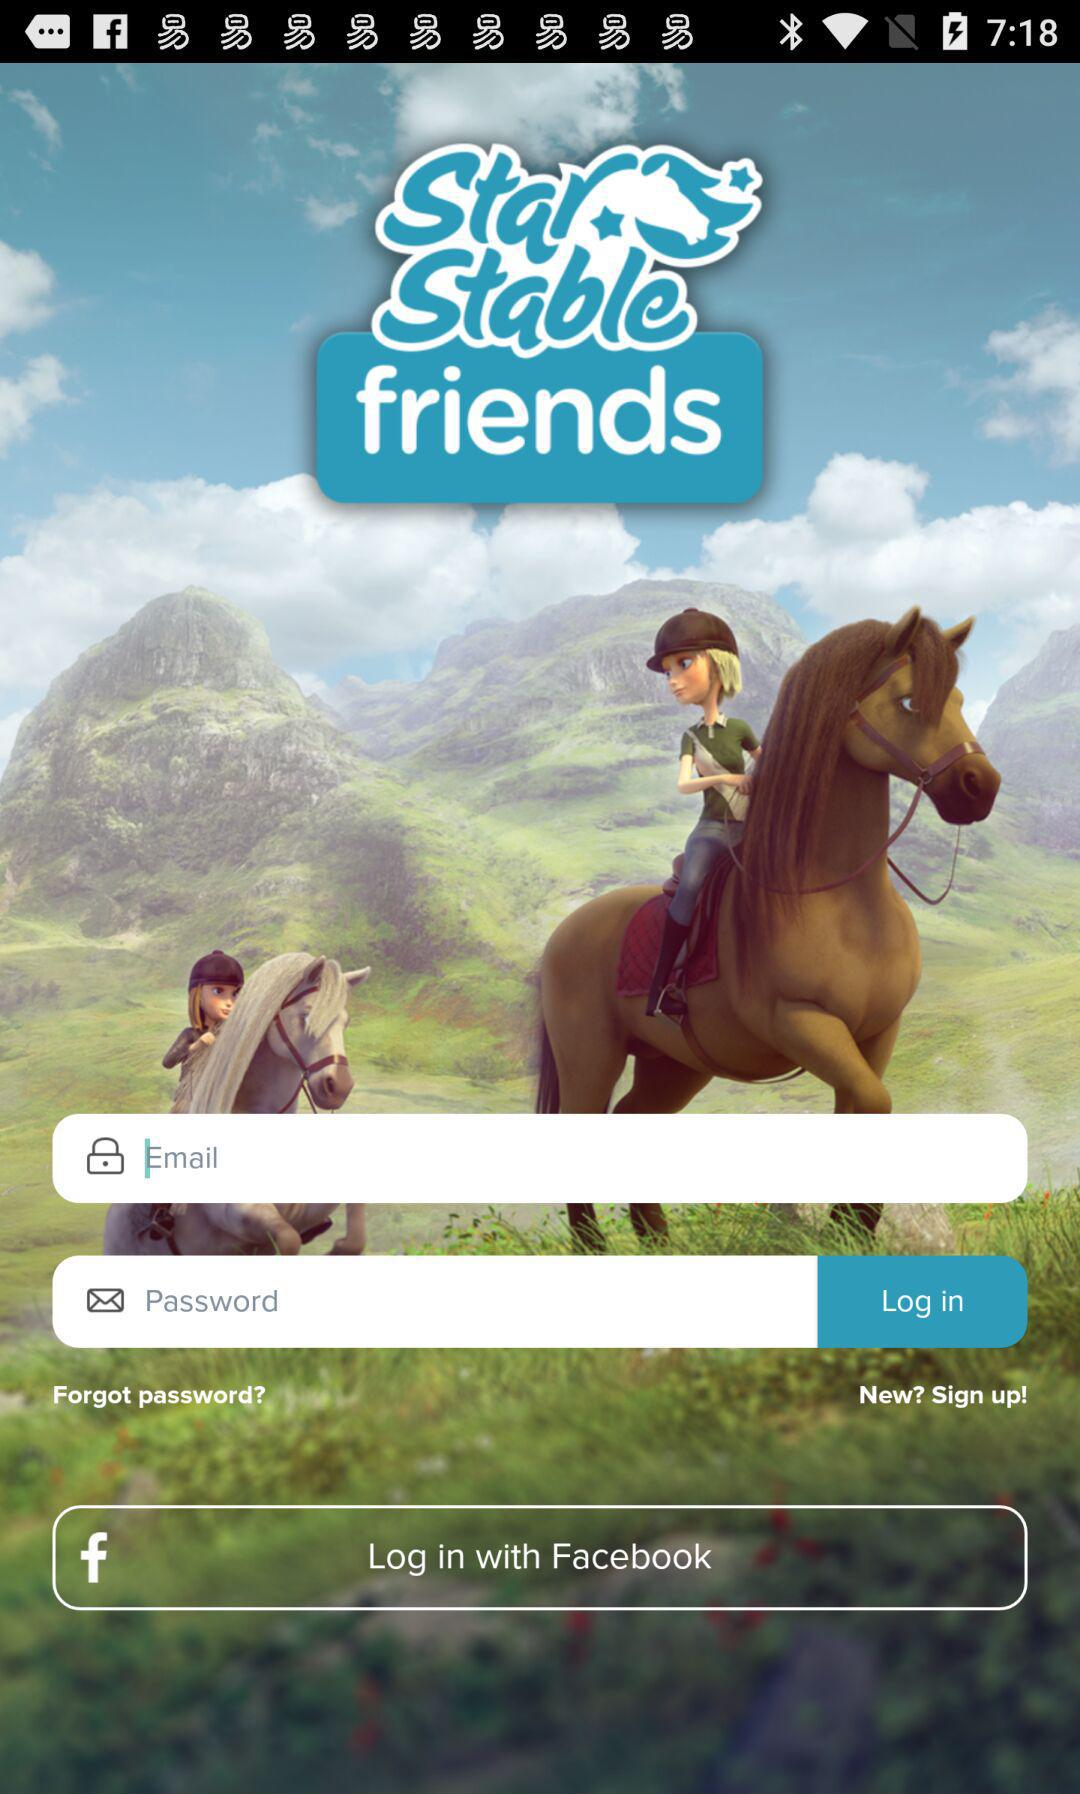BackgroundImage: (1, 64, 1080, 1794)
EditText: (53, 1114, 1029, 1205), (53, 1255, 817, 1349)
Icon: (87, 1137, 126, 1175), (87, 1288, 126, 1313)
Image: (315, 141, 764, 505)
Text: (54, 1387, 266, 1410), (858, 1383, 1027, 1410), (147, 1289, 279, 1313), (147, 1146, 218, 1169)
TextButton: (53, 1504, 1029, 1611), (817, 1256, 1029, 1349)
UpperTaskBar: (1, 1, 1080, 64)
